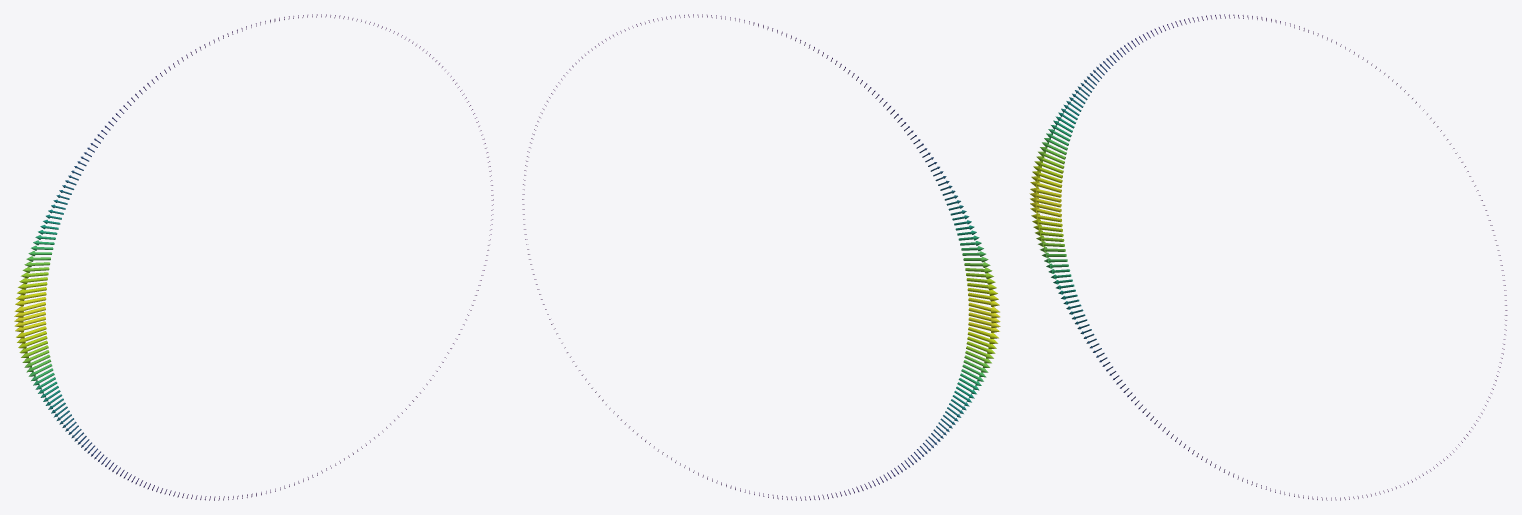
The model's file is coil_4_forces.gltf.
The picture shows the model from 3 angles, left to right: view 1: azimuth 30°, elevation 25°; view 2: azimuth 150°, elevation 25°; view 3: azimuth 330°, elevation 25°; orthographic projection.
Visible parts, largest first — view 1: Renderer Node; view 2: Renderer Node; view 3: Renderer Node.
Part boxes in pixels (left/top/right/bottom): Renderer Node: left=14, top=14, right=493, bottom=500; Renderer Node: left=522, top=14, right=1000, bottom=500; Renderer Node: left=1029, top=14, right=1507, bottom=500.
Size of the model in its own units: 0.6455 by 0.61 by 0.00842.
Materials: 1 (1 with a texture image).
